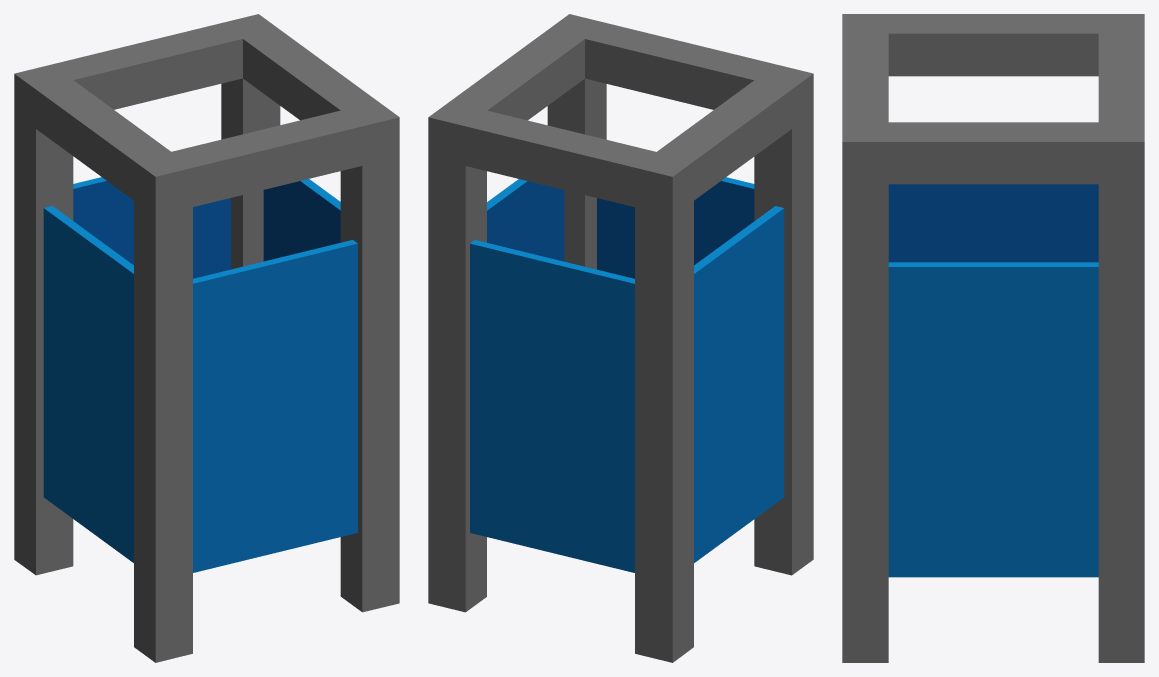
The model's file is Trash-02-D.fbx.
The picture shows the model from 3 angles, left to right: view 1: azimuth 30°, elevation 25°; view 2: azimuth 150°, elevation 25°; view 3: azimuth 270°, elevation 25°; orthographic projection. The views are drawn at different scales.
Parts seen in each view (by area): view 1: Trash-02; view 2: Trash-02; view 3: Trash-02.
Part boxes in pixels (box(x1,y1,x2,y2)): Trash-02: box(14, 14, 399, 662); Trash-02: box(428, 14, 813, 662); Trash-02: box(842, 14, 1144, 662).
Bounding box in the file's own units: 0.5646 × 1.07 × 0.5646.
